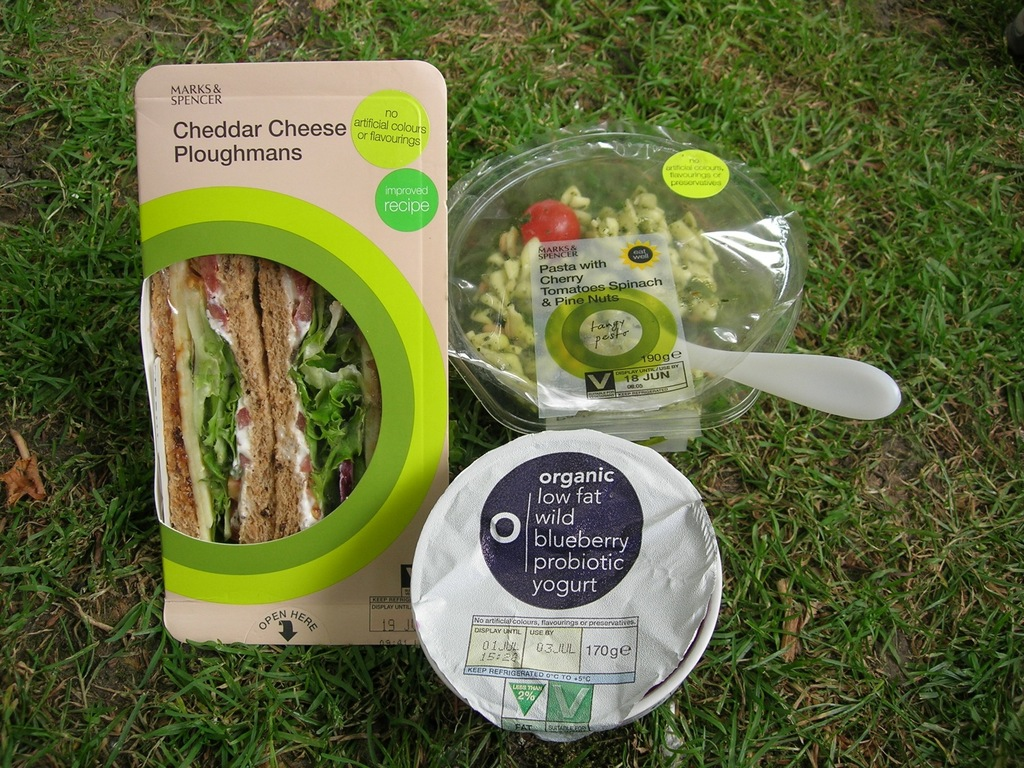sandwich: (148, 253, 382, 544)
